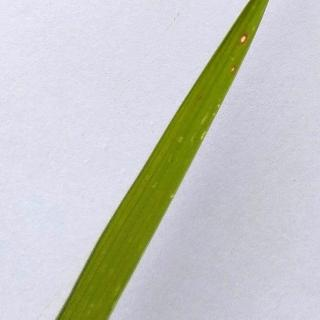Blast: (237, 30, 247, 48), (229, 62, 239, 74)
